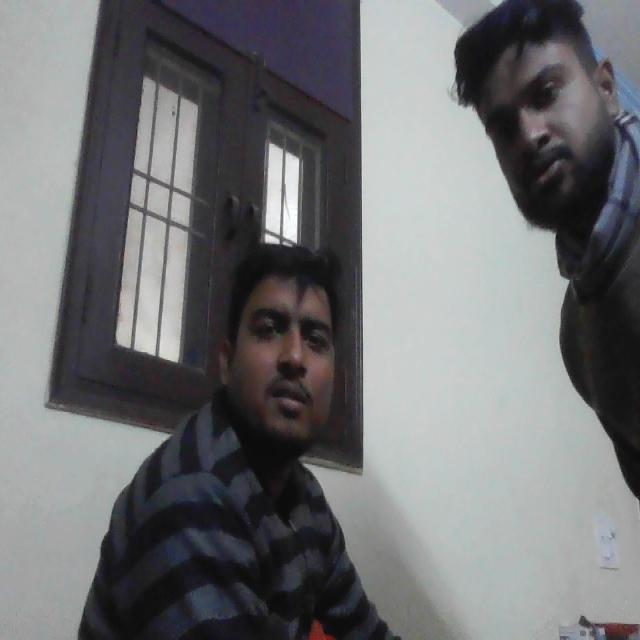real: (487, 0, 616, 244), (221, 220, 347, 457)
